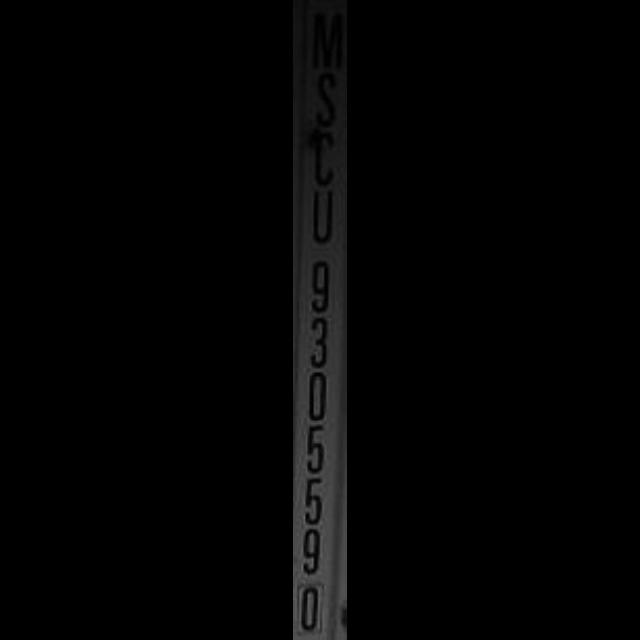0: (294, 570, 334, 640), (302, 366, 336, 424)
3: (300, 311, 338, 367)
5: (299, 418, 335, 484), (296, 477, 334, 531)
9: (298, 252, 342, 316), (294, 528, 330, 574)
c: (306, 140, 346, 186)
m: (305, 0, 347, 70)
s: (308, 70, 348, 130)
u: (302, 182, 348, 252)
